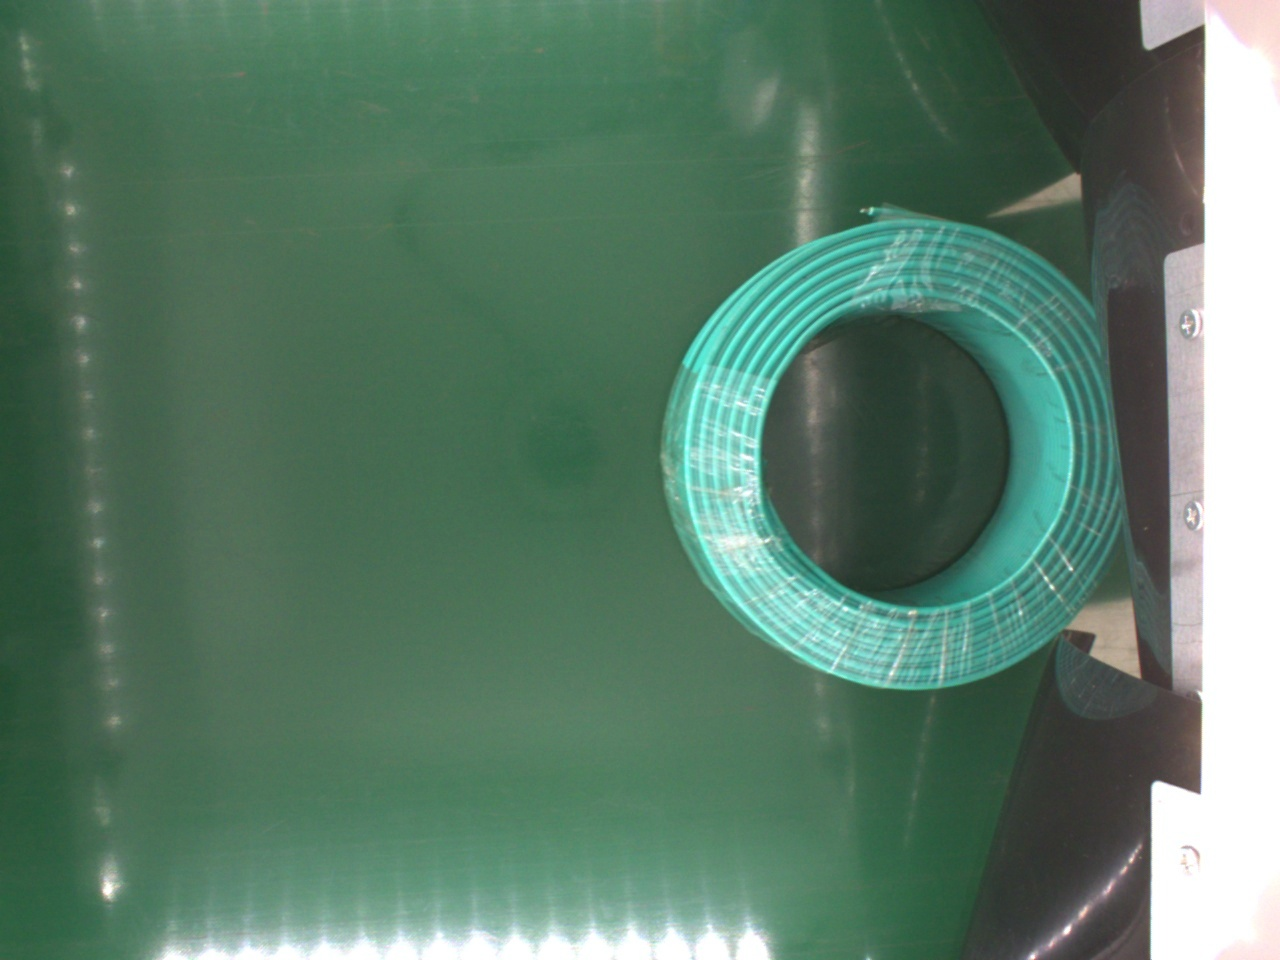green: (659, 214, 1121, 687)
